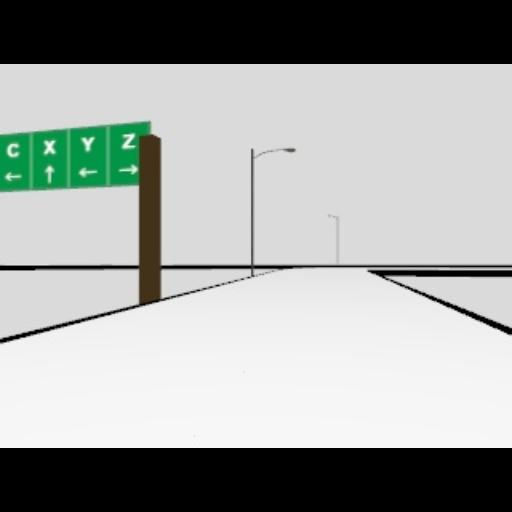C: (6, 143, 20, 157)
Left: (76, 166, 98, 178), (3, 171, 21, 181)
Right: (116, 164, 138, 174)
Straight: (44, 163, 54, 181)
X: (44, 139, 56, 153)
Y: (80, 134, 94, 152)
Z: (120, 133, 136, 149)
